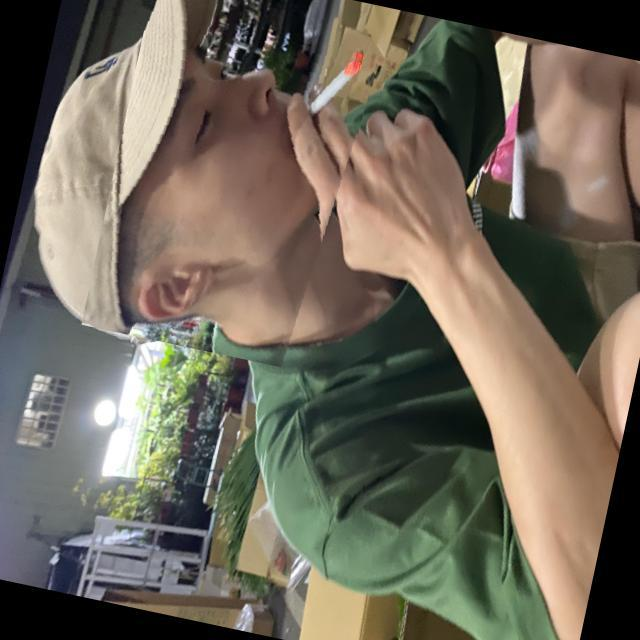cigarette: (291, 41, 377, 140)
